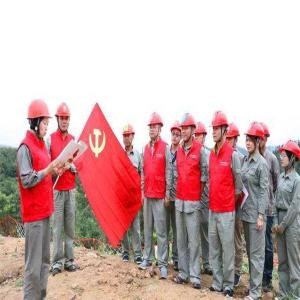red: (28, 100, 51, 139), (211, 110, 229, 144), (246, 123, 264, 154), (282, 141, 299, 172), (148, 112, 165, 141), (181, 114, 196, 145), (56, 104, 72, 133), (193, 123, 207, 147), (226, 124, 240, 148), (122, 124, 135, 149), (172, 122, 183, 147)
